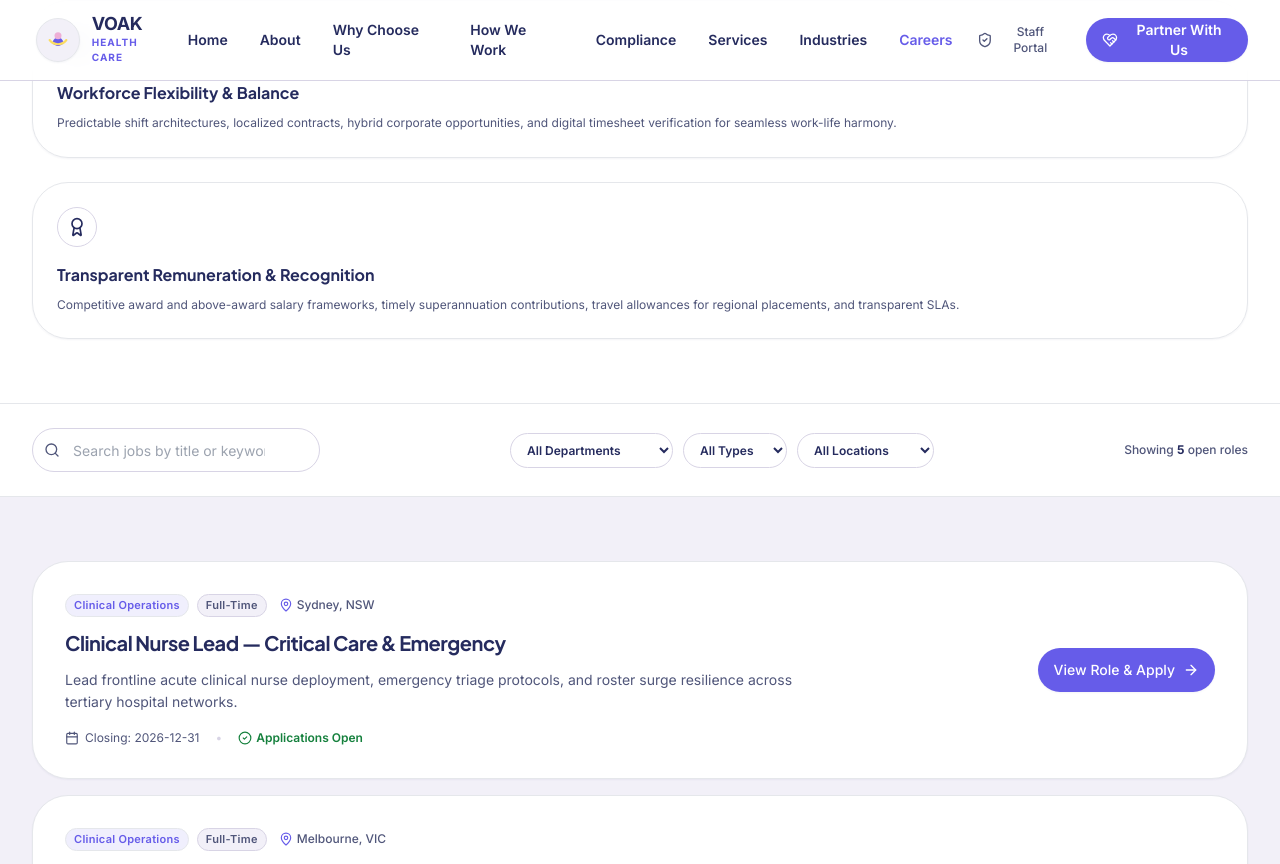
Test: Phase 23 — Careers Portal Suite › PAGE-PUB-12: Careers Overview Directory (/careers) › searches jobs by keyword and shows empty state on zero matches with reset recovery
(page scrolled)
Type "Nonexistent Specialization 12345" into the search field at (176, 450), box x1=32 y1=428 x2=320 y2=472
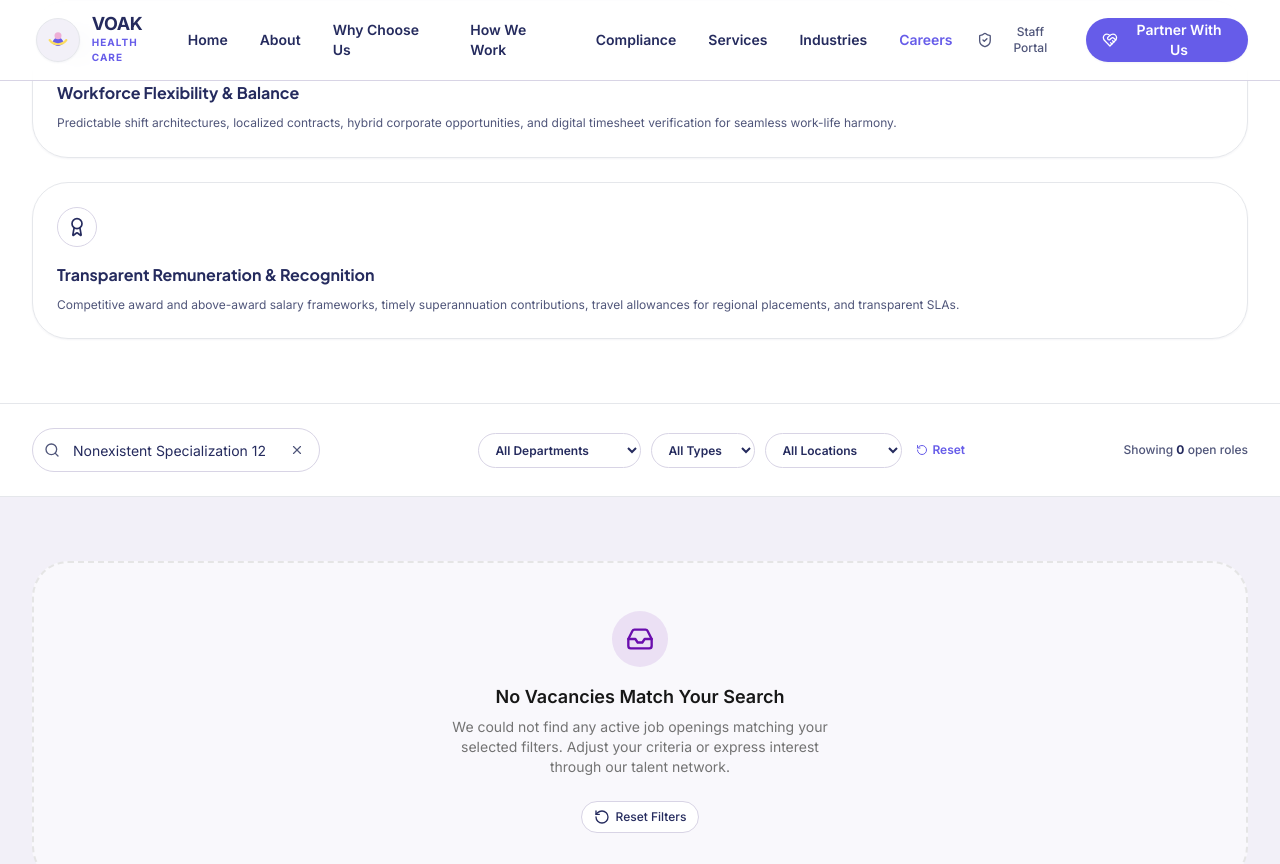
Now the heading "No Vacancies Match Your Search" is shown, box x1=496 y1=683 x2=784 y2=711
Now the button "Reset Filters" is shown
# Click reset restores full list
Click the button "Reset Filters" at (640, 817), box x1=581 y1=801 x2=700 y2=833
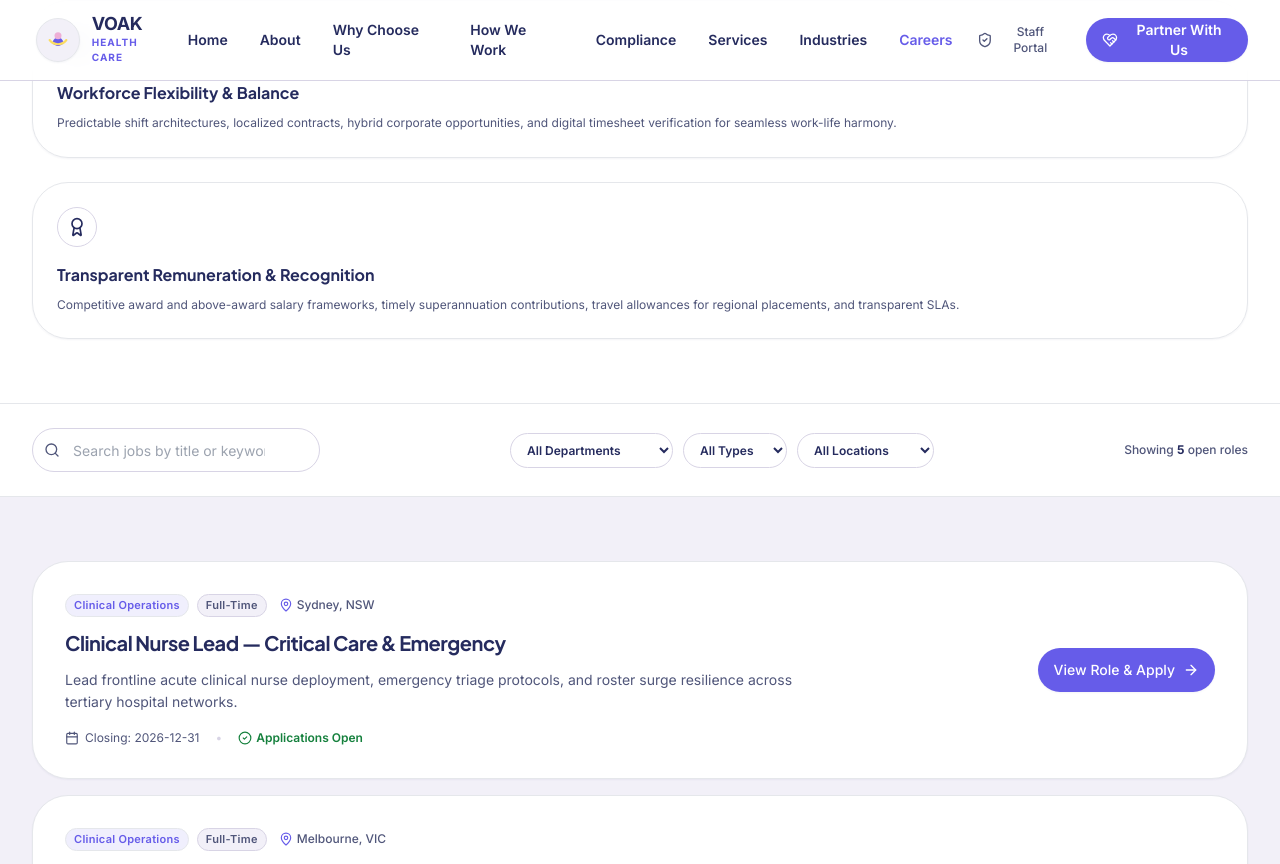
Now the link "Clinical Nurse Lead — Critical Care & Emergency" is shown, box x1=65 y1=630 x2=506 y2=654
Now the element named "Job openings count" reads "Showing 5 open roles", box x1=1124 y1=442 x2=1248 y2=458
